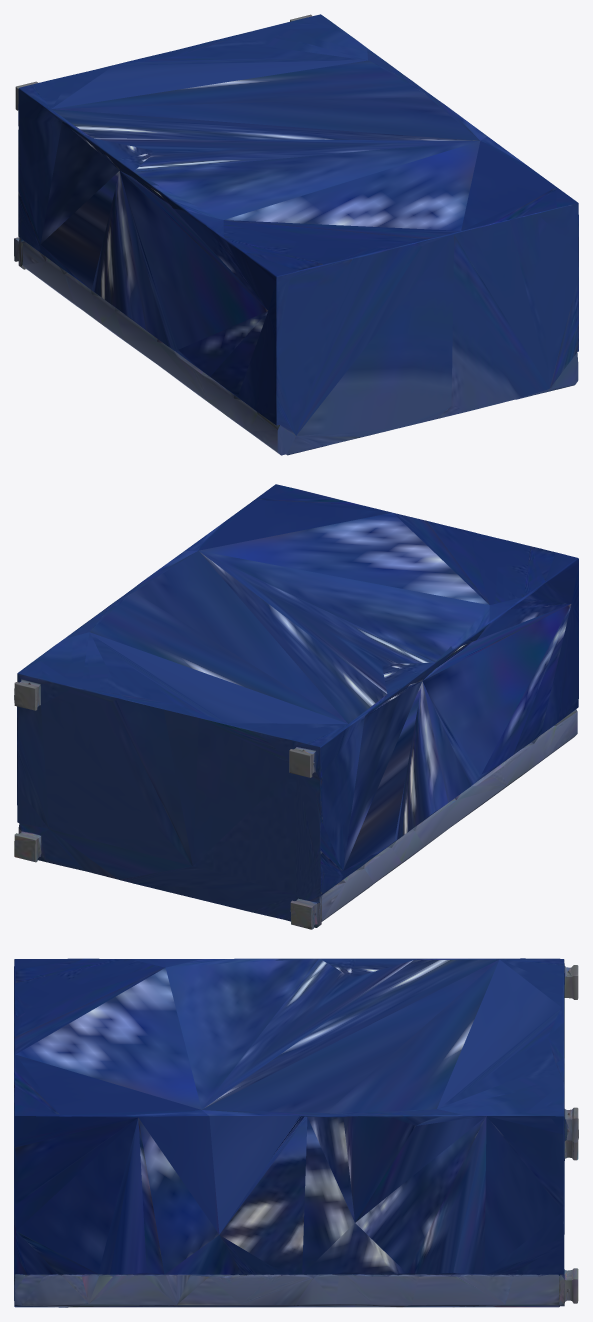
Rendered from vending_machine.glb.
The picture shows the model from 3 angles, top to bottom: view 1: azimuth 30°, elevation 25°; view 2: azimuth 150°, elevation 25°; view 3: azimuth 270°, elevation 25°; orthographic projection. The views are drawn at different scales.
Bounding box in the file's own units: 1.26 × 0.7305 × 1.9.
1 material, 1 textured.
